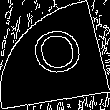O_S: (24, 25, 86, 85)
